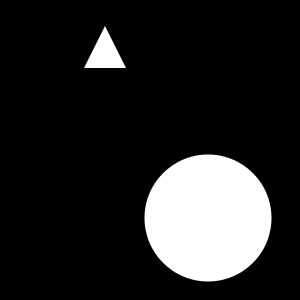rectangle: (144, 154, 272, 282)
triangle: (84, 26, 126, 68)
